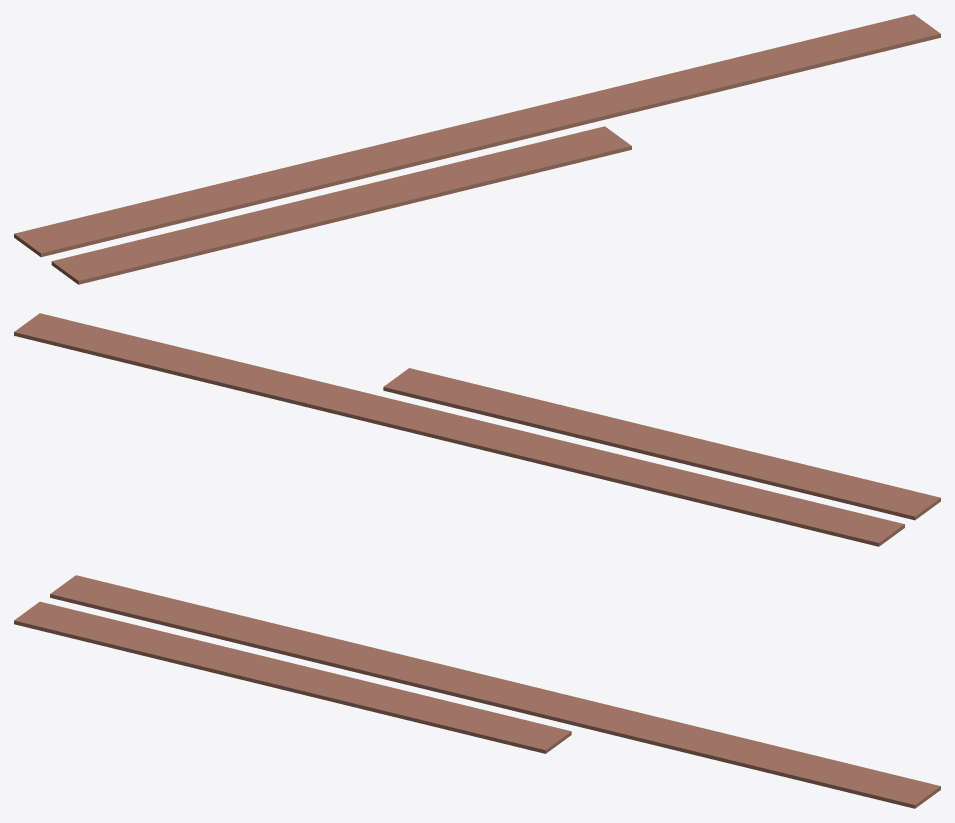
The model's file is ceiling-plank-253x20_ipe_v0.1.glb.
3 renders of one model, top to bottom at view 1: azimuth 30°, elevation 25°; view 2: azimuth 150°, elevation 25°; view 3: azimuth 330°, elevation 25°, orthographic. The views are drawn at different scales.
Visible parts, largest first — view 1: IB-40508_ceiling-plank-253x20_ipe_4880mm, IB-40500_ceiling-plank-253x20_ipe_3000mm; view 2: IB-40508_ceiling-plank-253x20_ipe_4880mm, IB-40500_ceiling-plank-253x20_ipe_3000mm; view 3: IB-40508_ceiling-plank-253x20_ipe_4880mm, IB-40500_ceiling-plank-253x20_ipe_3000mm.
Part boxes in pixels (<box>): IB-40508_ceiling-plank-253x20_ipe_4880mm: <box>14,14,940,257</box>; IB-40500_ceiling-plank-253x20_ipe_3000mm: <box>51,126,631,284</box>; IB-40508_ceiling-plank-253x20_ipe_4880mm: <box>14,313,904,546</box>; IB-40500_ceiling-plank-253x20_ipe_3000mm: <box>383,368,940,520</box>; IB-40508_ceiling-plank-253x20_ipe_4880mm: <box>50,575,940,808</box>; IB-40500_ceiling-plank-253x20_ipe_3000mm: <box>14,601,571,753</box>.
Size of the model in its own units: 4.88 by 0.02 by 0.606.
